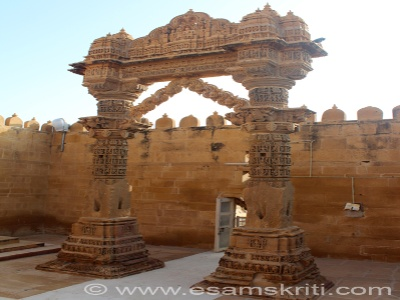torana: (63, 18, 320, 256)
